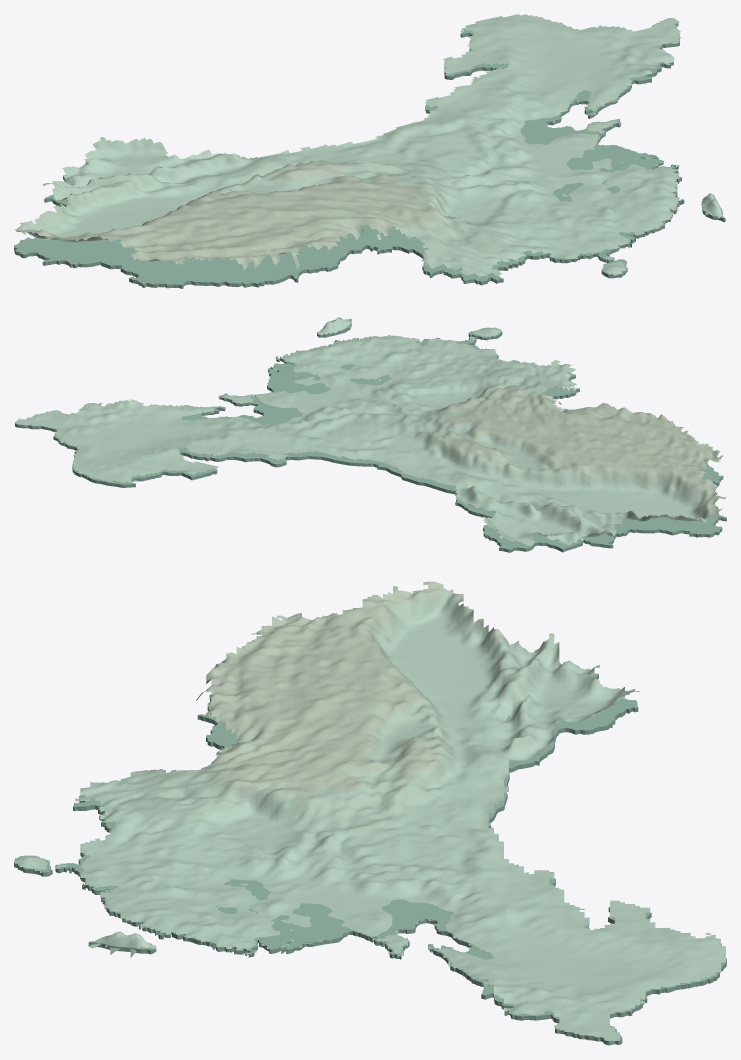
The model's file is national-map.glb.
The picture shows the model from 3 angles, top to bottom: view 1: azimuth 30°, elevation 25°; view 2: azimuth 150°, elevation 25°; view 3: azimuth 270°, elevation 25°; orthographic projection. The views are drawn at different scales.
Visible parts, largest first — view 1: national-terrain, national-base; view 2: national-terrain, national-base; view 3: national-terrain, national-base.
Boxes of the visible parts, x1,y1,x2,y2 form: national-terrain: [15, 14, 723, 276]; national-base: [14, 18, 725, 288]; national-terrain: [14, 317, 726, 546]; national-base: [15, 318, 726, 552]; national-terrain: [14, 581, 725, 1040]; national-base: [14, 662, 726, 1045].
Size of the model in its own units: 91.72 by 4.17 by 63.61.
